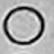no answer: (4, 6, 45, 45)
